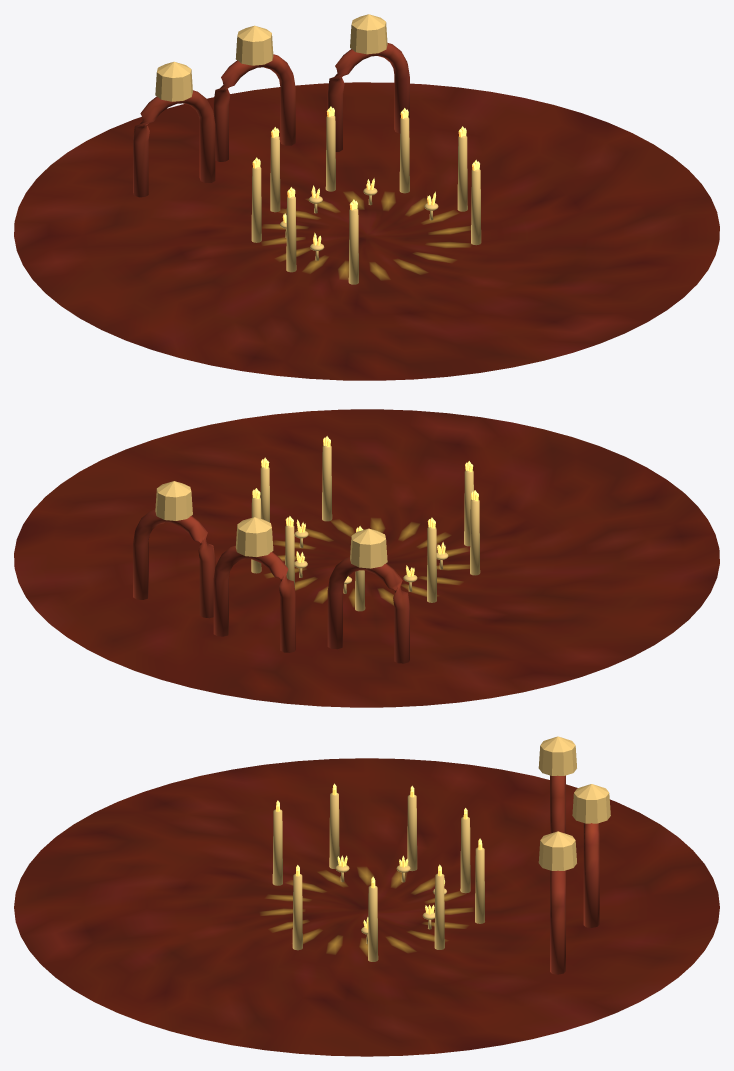
Rendered from arena-flame-palace.aeb0e949f3.glb.
3 views of the same model, one above another, from view 1: azimuth 30°, elevation 25°; view 2: azimuth 150°, elevation 25°; view 3: azimuth 270°, elevation 25° (orthographic).
Parts seen in each view (by area): view 1: Arena; view 2: Arena; view 3: Arena.
Boxes of the visible parts, x1,y1,x2,y2 form: Arena: (14, 14, 719, 380); Arena: (14, 409, 719, 707); Arena: (14, 736, 719, 1056).
Bounding box in the file's own units: 44 × 9.1 × 44.
